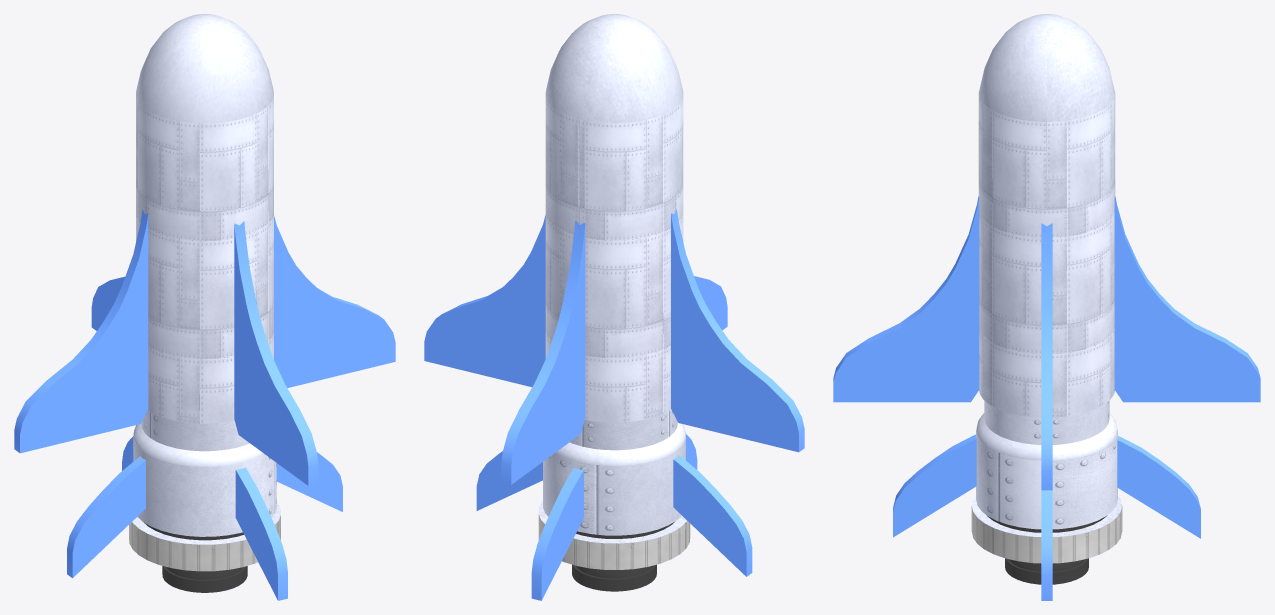
Rendered from rocket.gltf.
The picture shows the model from 3 angles, left to right: view 1: azimuth 30°, elevation 25°; view 2: azimuth 150°, elevation 25°; view 3: azimuth 270°, elevation 25°; orthographic projection.
Parts seen in each view (by area): view 1: Cylinder, Cylinder.001, Cube, Cube.001, Cube.003, Cube.004, Cube.006, Cube.005, Cube.002; view 2: Cylinder, Cylinder.001, Cube, Cube.001, Cube.002, Cube.004, Cube.007, Cube.005, Cube.003; view 3: Cylinder, Cylinder.001, Cube.002, Cube.003, Cube.006, Cube.007, Cube.001, Cube.005.
Boxes of the visible parts, <box> form: Cylinder: <box>136,14,273,423</box>; Cylinder.001: <box>129,411,280,592</box>; Cube: <box>14,210,148,453</box>; Cube.001: <box>274,215,395,387</box>; Cube.003: <box>234,221,318,485</box>; Cube.004: <box>67,456,145,578</box>; Cube.006: <box>235,467,287,600</box>; Cube.005: <box>276,452,342,511</box>; Cube.002: <box>91,276,124,330</box>; Cylinder: <box>545,14,683,422</box>; Cylinder.001: <box>538,410,690,591</box>; Cube: <box>671,209,804,452</box>; Cube.001: <box>424,215,545,386</box>; Cube.002: <box>501,221,585,484</box>; Cube.004: <box>673,455,752,576</box>; Cube.007: <box>531,468,583,600</box>; Cube.005: <box>476,451,542,510</box>; Cube.003: <box>694,276,727,330</box>; Cylinder: <box>978,14,1115,417</box>; Cylinder.001: <box>971,401,1122,584</box>; Cube.002: <box>1114,196,1260,402</box>; Cube.003: <box>833,196,979,402</box>; Cube.006: <box>893,434,976,537</box>; Cube.007: <box>1117,436,1200,538</box>; Cube.001: <box>1041,223,1052,490</box>; Cube.005: <box>1041,490,1052,600</box>.
Size of the model in its own units: 13.69 by 19.34 by 13.69.
4 materials, 2 textured.
